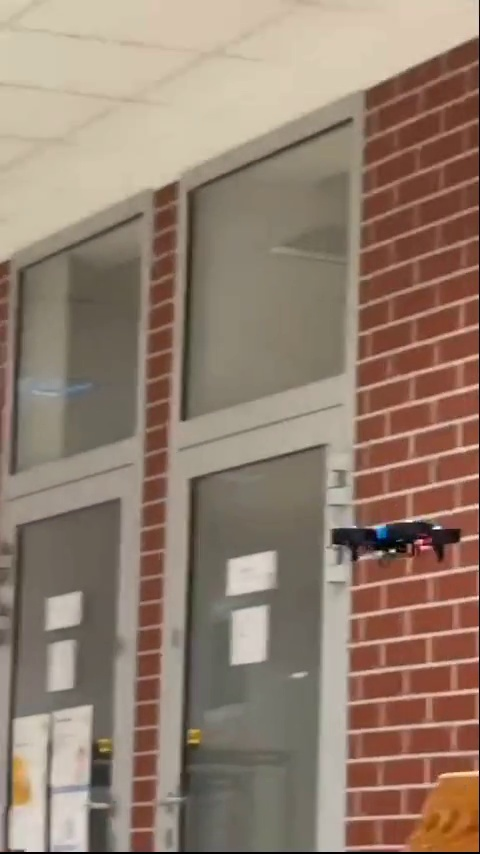drone: (328, 520, 466, 562)
